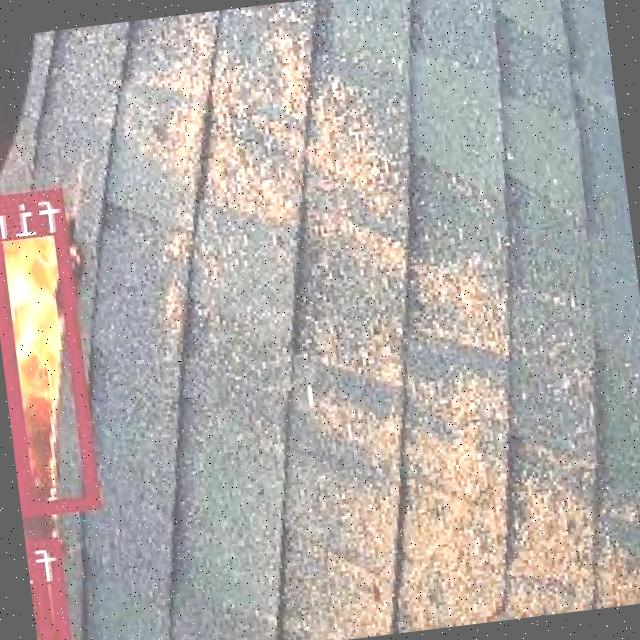fire: (0, 187, 103, 511), (31, 535, 74, 640)
